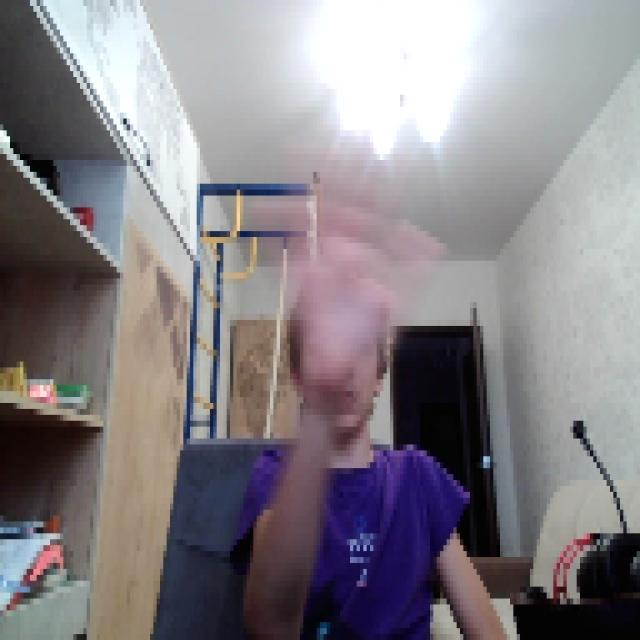hand: (277, 190, 437, 379)
